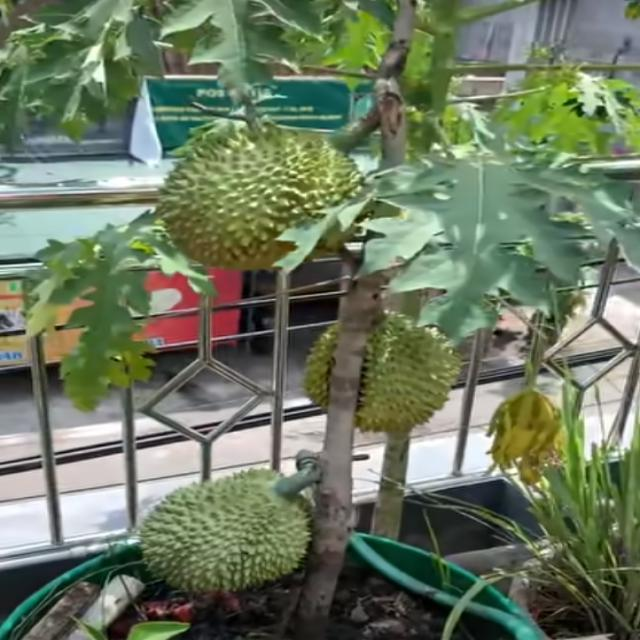immature: (156, 122, 361, 272), (135, 464, 317, 591), (300, 312, 471, 432)
